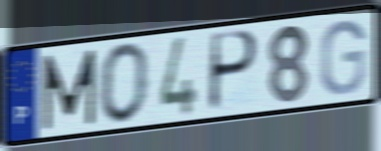4: (157, 33, 201, 119)
8: (266, 22, 311, 105)
G: (318, 16, 368, 97)
M: (41, 46, 98, 133)
O: (96, 40, 151, 126)
P: (206, 28, 261, 115)
